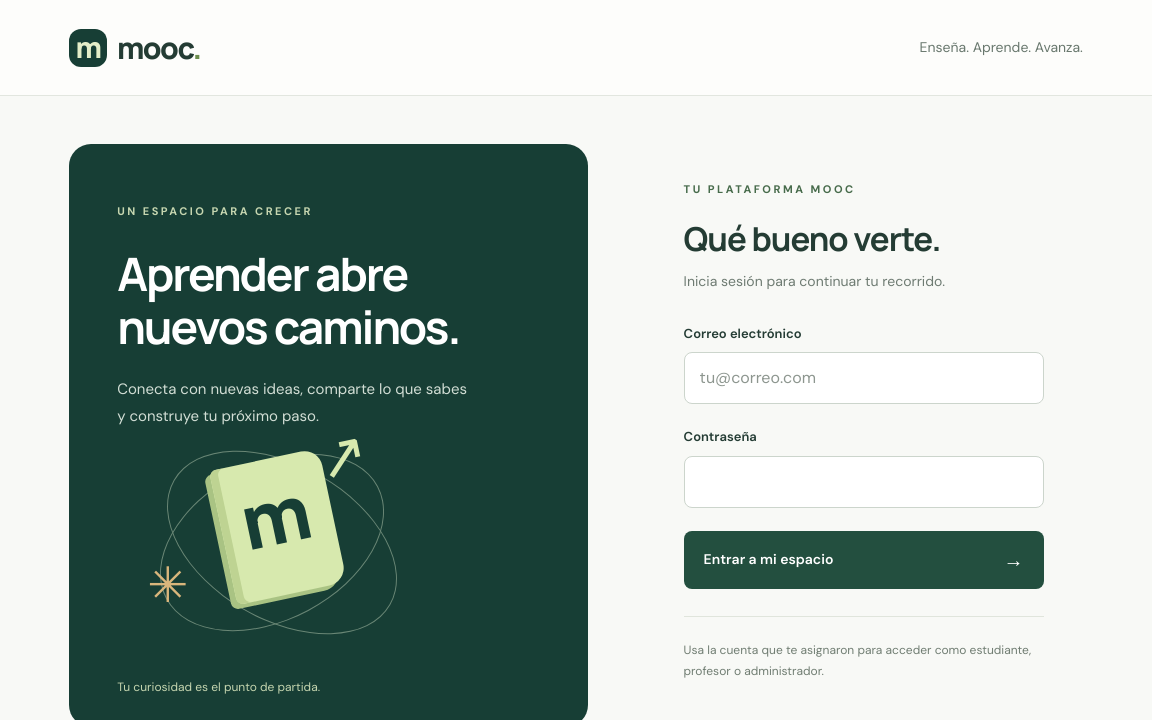
Test case: inicia sesión, verifica la cookie con /me y cierra la sesión
In the field labelled "Correo electrónico": [864, 378] box x1=684 y1=352 x2=1044 y2=404, type "estudiante@example.test"
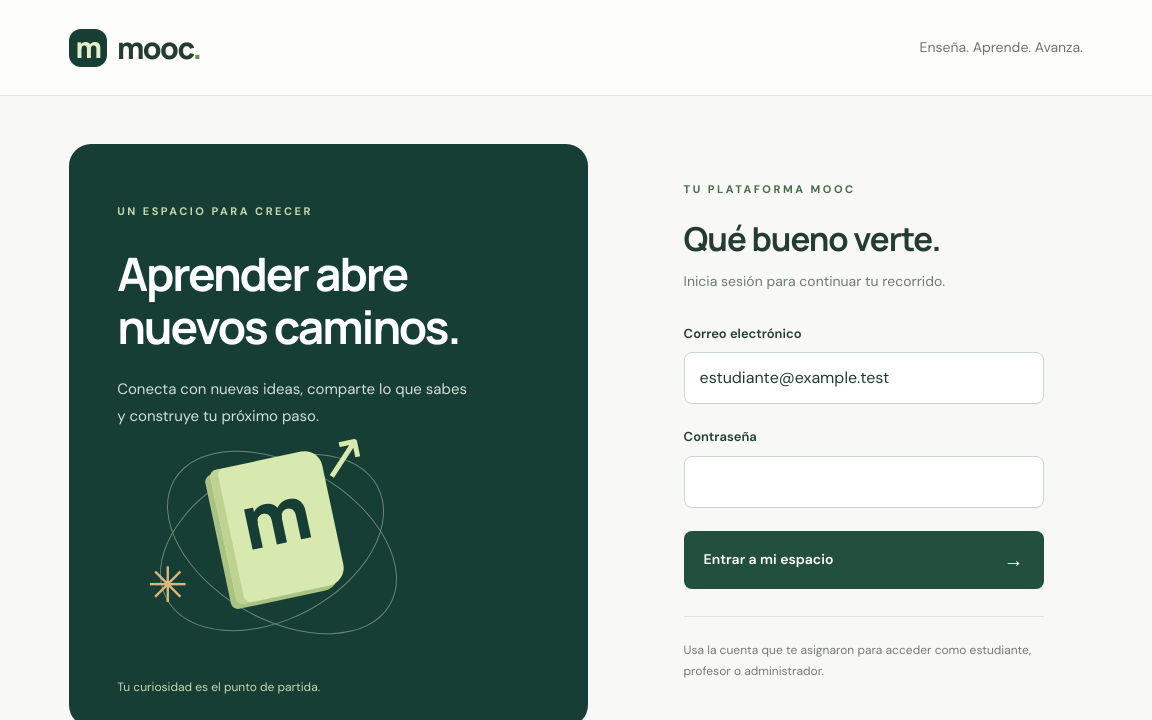
In the password field labelled "Contraseña": [864, 482] box x1=684 y1=456 x2=1044 y2=508, type "contraseña-de-prueba"
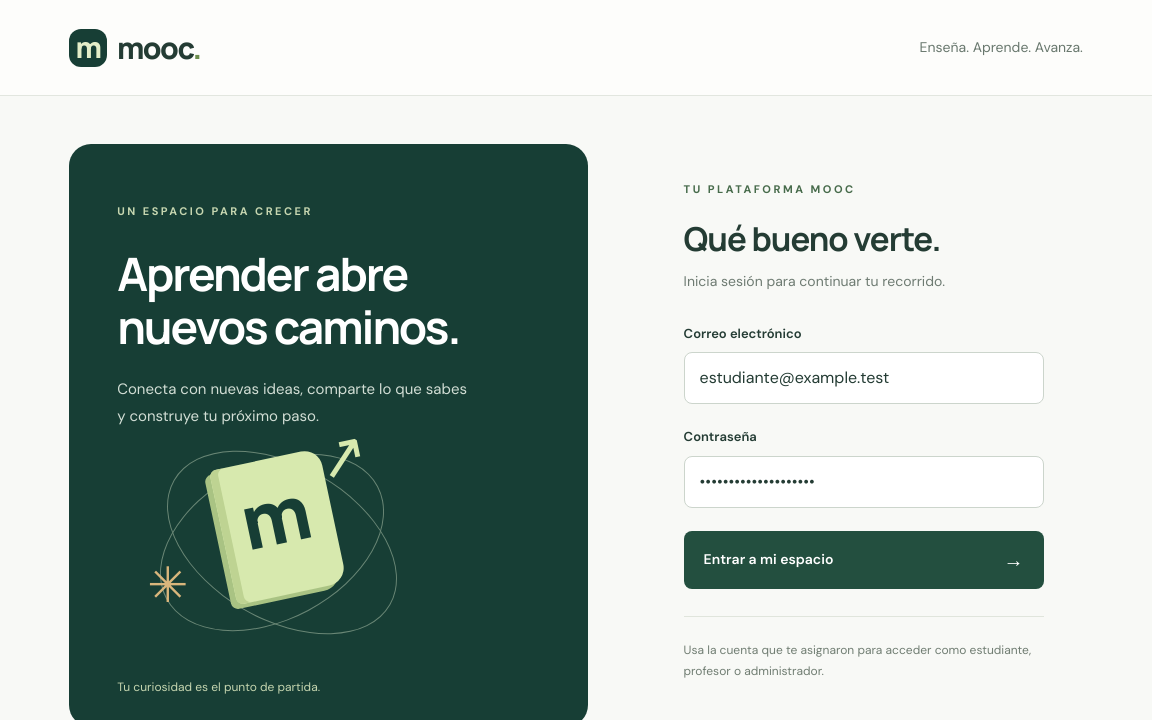
Click the button "Entrar a mi espacio →": [768, 559] box x1=684 y1=531 x2=1044 y2=589
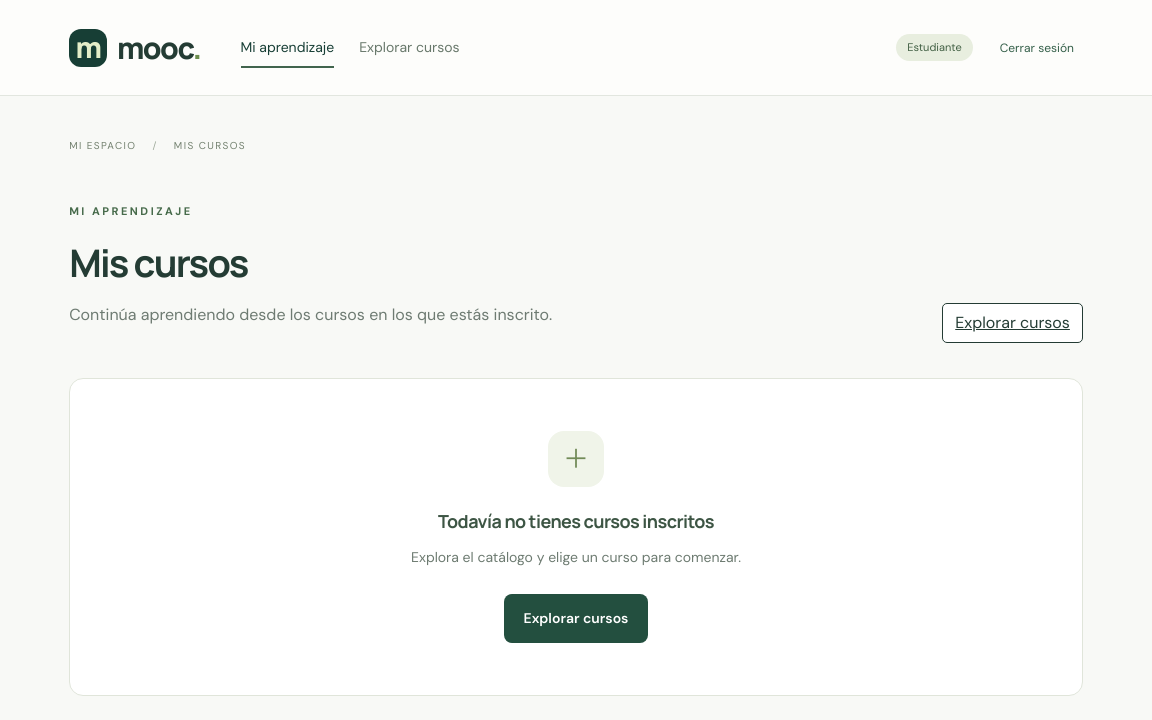
Result: the heading "Mis cursos" is shown at x1=69 y1=236 x2=248 y2=288
Click the button "Cerrar sesión": [1037, 48] box x1=991 y1=30 x2=1083 y2=66
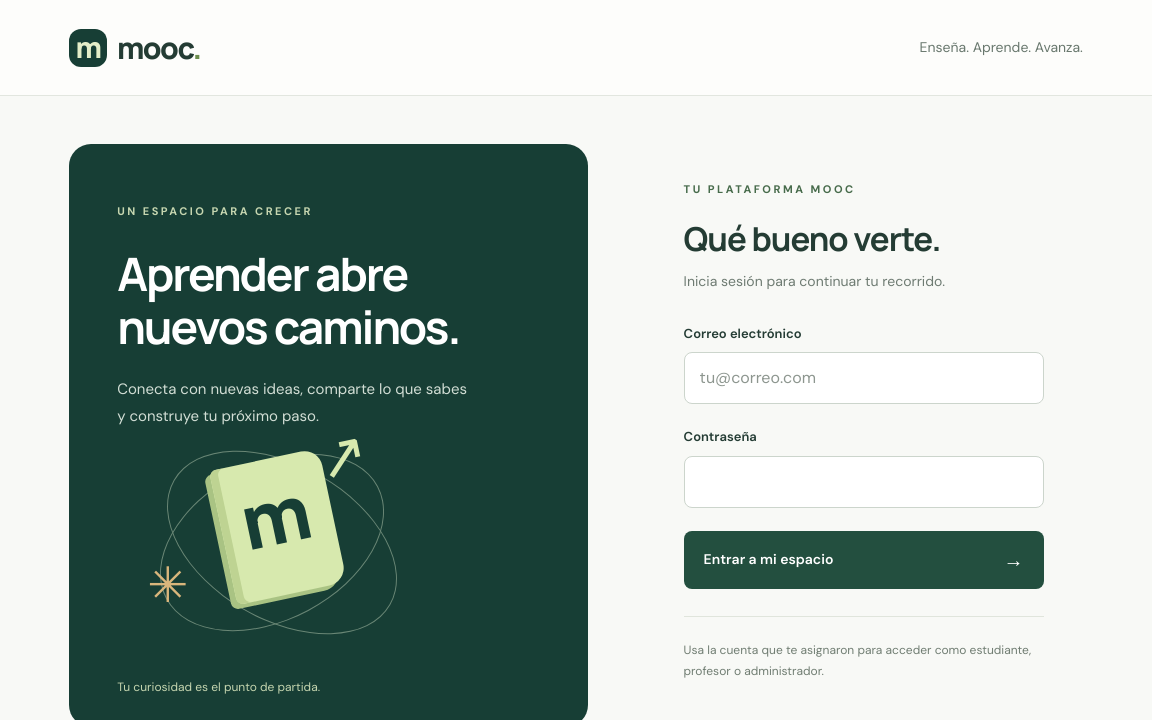
Result: the button "Entrar a mi espacio →" is shown at x1=684 y1=531 x2=1044 y2=589
